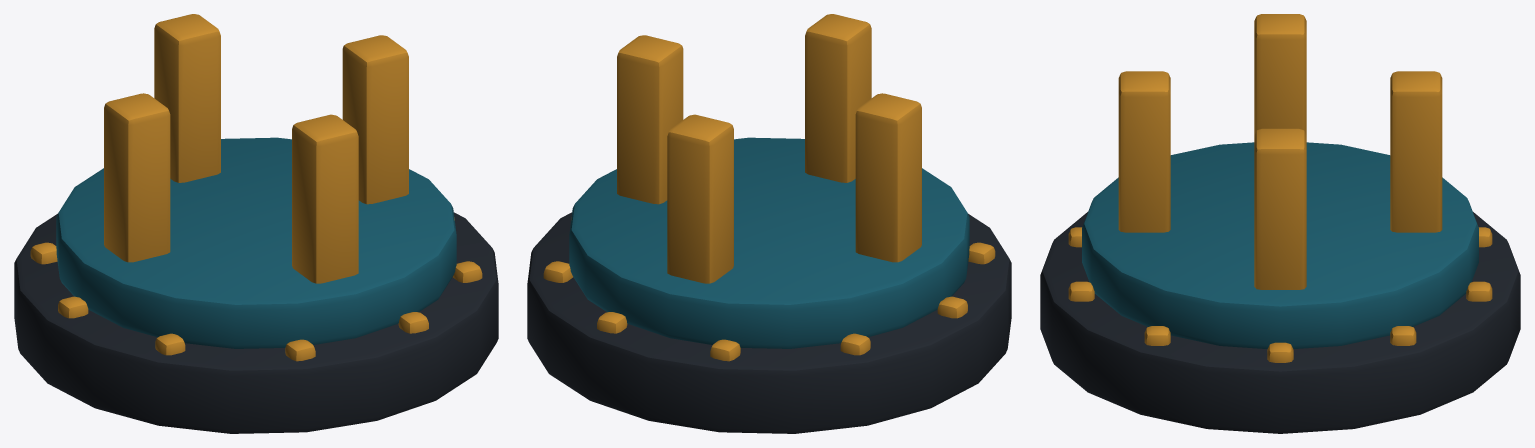
The model's file is BubbleBody.obj.
3 renders of one model, left to right at view 1: azimuth 30°, elevation 25°; view 2: azimuth 150°, elevation 25°; view 3: azimuth 270°, elevation 25°, orthographic.
Visible parts, largest first — view 1: BubbleBody; view 2: BubbleBody; view 3: BubbleBody.
Boxes of the visible parts, box(x1,y1,x2,y2) form: BubbleBody: box(14, 14, 498, 433); BubbleBody: box(527, 14, 1011, 433); BubbleBody: box(1040, 14, 1520, 433).
Bounding box in the file's own units: 0.92 × 0.54 × 0.92.
